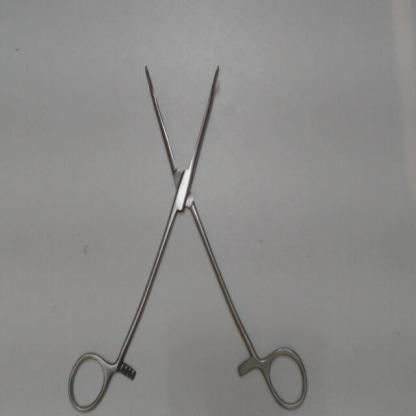Lahey Forceps: (65, 57, 309, 414)
